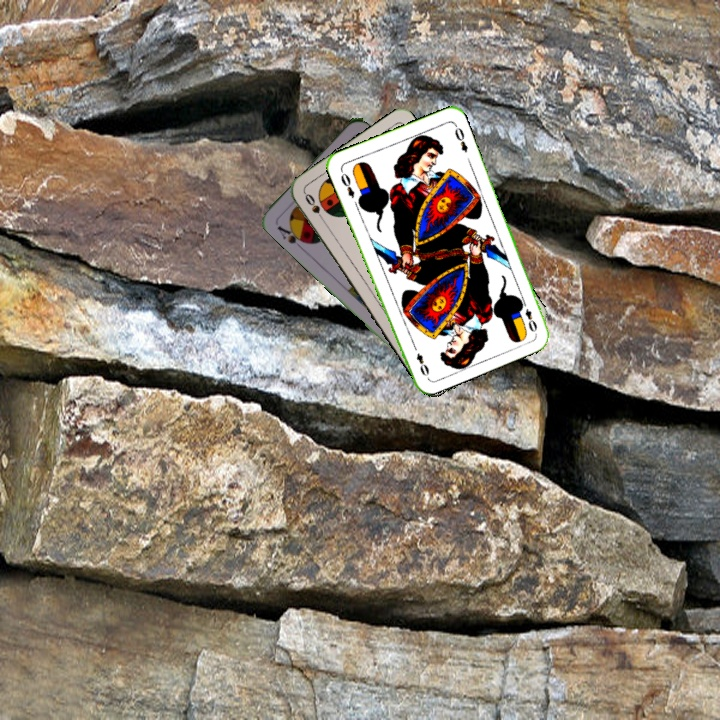EO: (517, 296, 540, 335), (337, 166, 357, 200)
SA: (273, 220, 309, 251)
SO: (300, 189, 328, 225)
